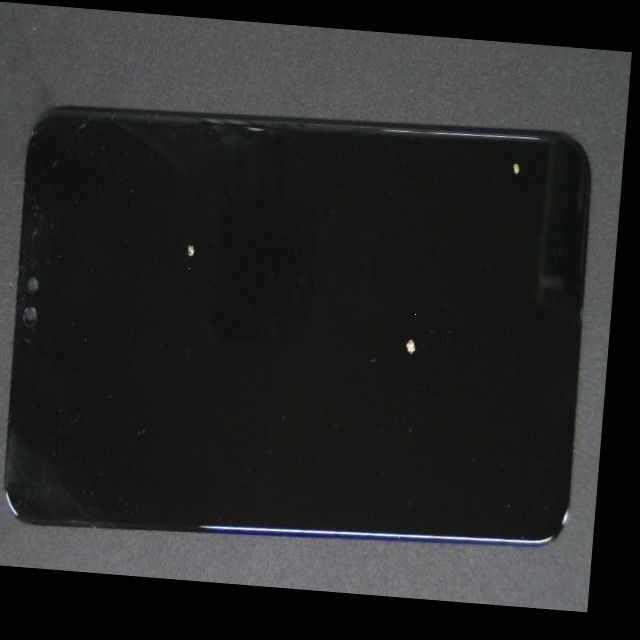stain: (174, 174, 620, 521), (59, 105, 292, 386), (270, 81, 627, 220)
